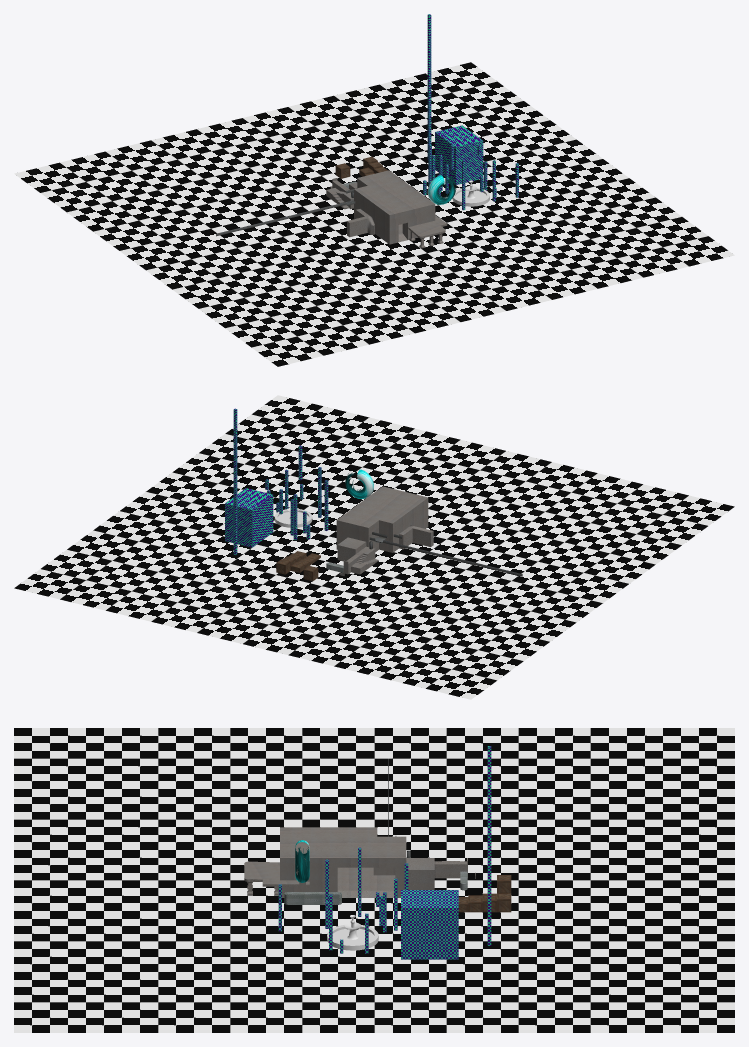
Rendered from playtest-new.gltf.
3 renders of one model, top to bottom at view 1: azimuth 30°, elevation 25°; view 2: azimuth 150°, elevation 25°; view 3: azimuth 270°, elevation 25°, orthographic. The views are drawn at different scales.
Parts seen in each view (by area): view 1: playtest.017-col, playtest.014-col, playtest.004-col (×2); view 2: playtest.017-col, playtest.014-col, playtest.004-col (×2), playtest.010-col, playtest.006-col, playtest.012-col, playtest.003-col; view 3: playtest.017-col, playtest.014-col, playtest.004-col (×2), playtest.010-col, playtest.015-col, playtest.006-col, playtest.002-col, playtest.008-col, playtest.003-col.
Boxes of the visible parts, <box> form: playtest.017-col: <box>14,62,734,366</box>; playtest.014-col: <box>354,170,435,244</box>; playtest.004-col (×2): <box>427,14,483,184</box>; playtest.017-col: <box>14,395,734,699</box>; playtest.014-col: <box>336,486,428,552</box>; playtest.004-col (×2): <box>225,408,273,555</box>; playtest.010-col: <box>337,537,378,574</box>; playtest.006-col: <box>276,551,320,574</box>; playtest.012-col: <box>399,525,433,549</box>; playtest.003-col: <box>345,469,373,499</box>; playtest.017-col: <box>14,728,734,1032</box>; playtest.014-col: <box>280,827,406,897</box>; playtest.004-col (×2): <box>401,746,491,959</box>; playtest.010-col: <box>406,858,467,889</box>; playtest.015-col: <box>244,861,299,886</box>; playtest.006-col: <box>458,893,511,912</box>; playtest.002-col: <box>327,915,378,950</box>; playtest.008-col: <box>284,892,341,904</box>; playtest.003-col: <box>295,840,309,882</box>.
Bounding box in the file's own units: 200 × 61.75 × 200.
Materials: 8 (7 with a texture image).
